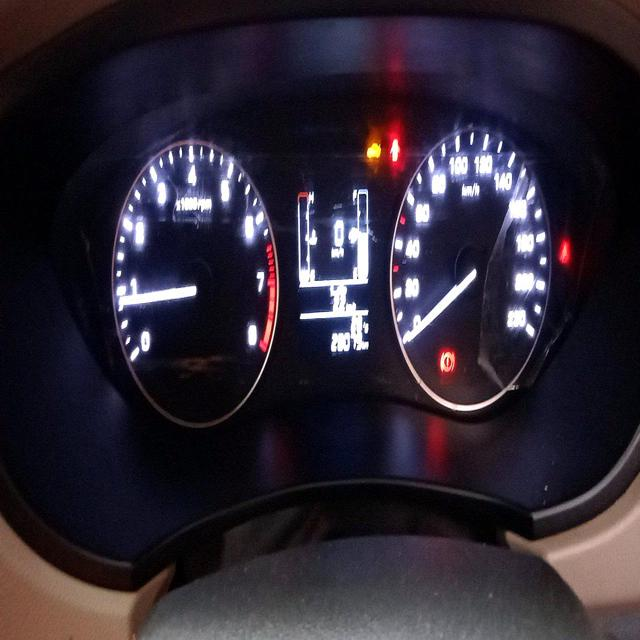odometer: (327, 328, 365, 355)
